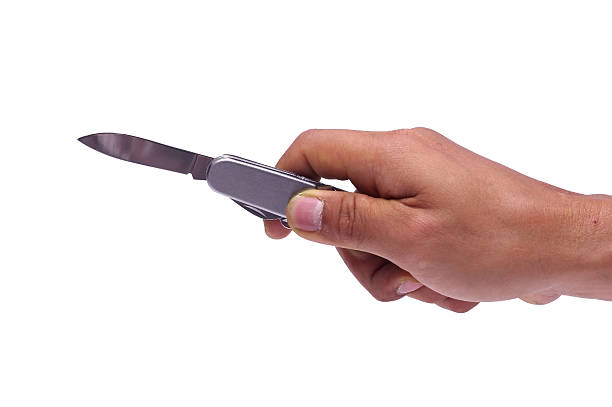knife: (75, 131, 216, 182)
